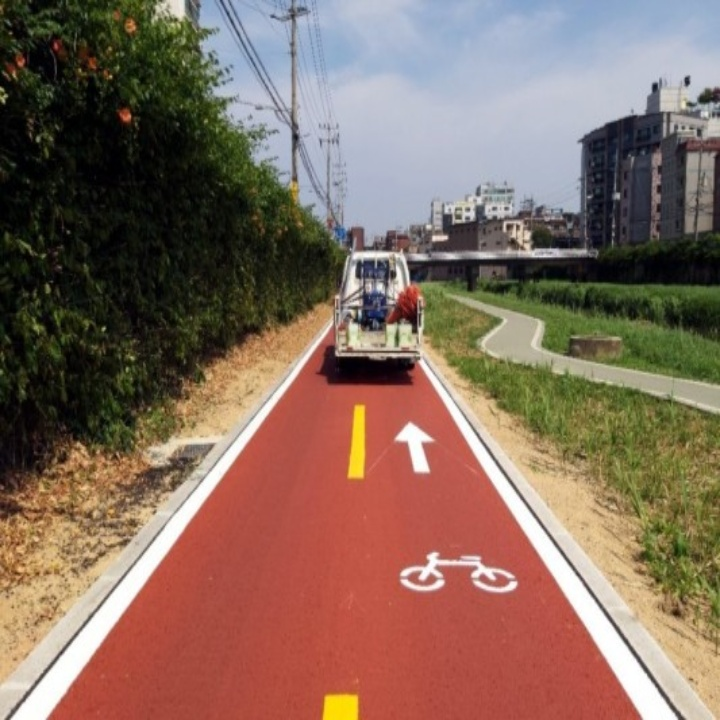bicycle: (175, 351, 547, 587)
